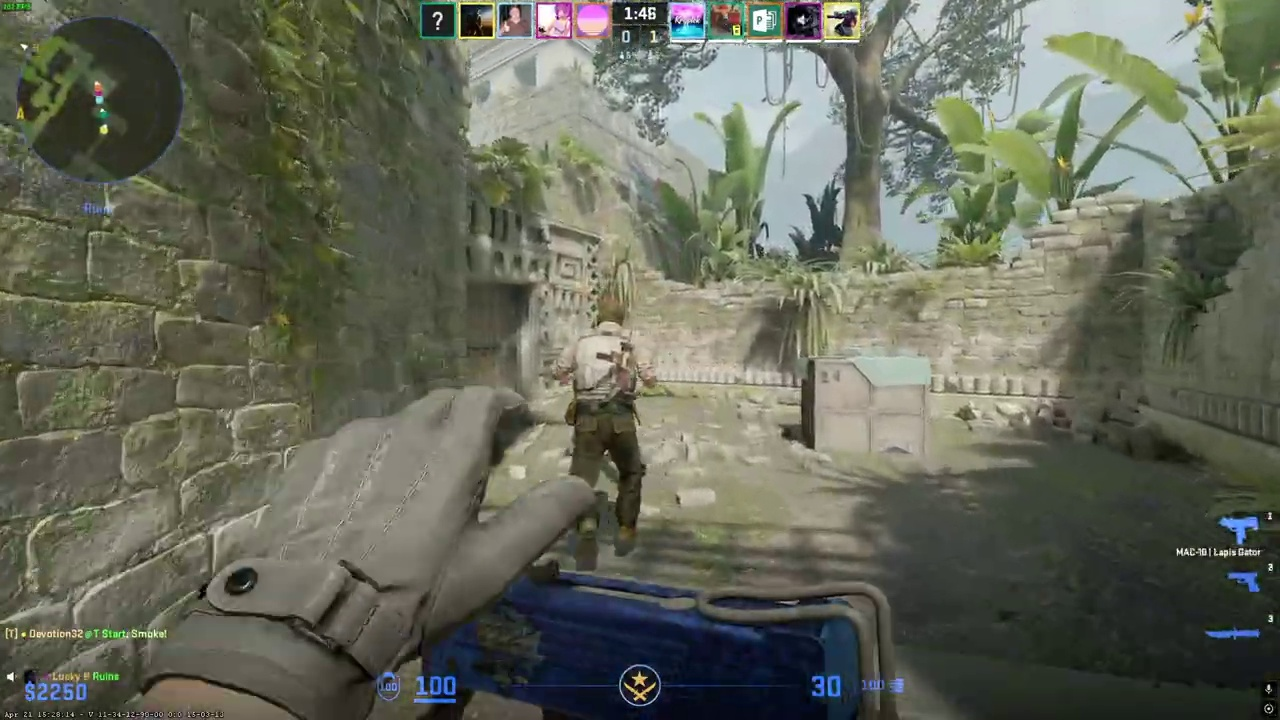Terrorist: (564, 303, 651, 548)
